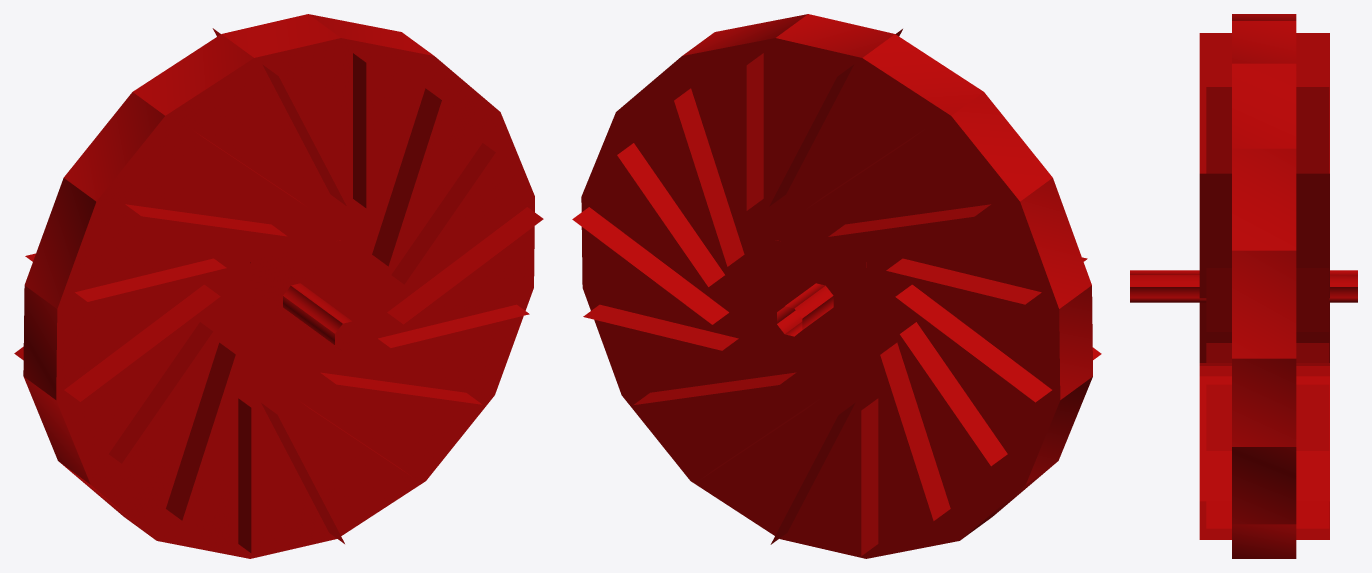
The model's file is wheel_small.glb.
The picture shows the model from 3 angles, left to right: view 1: azimuth 30°, elevation 25°; view 2: azimuth 150°, elevation 25°; view 3: azimuth 270°, elevation 25°; orthographic projection. The views are drawn at different scales.
Visible parts, largest first — view 1: MODEL_wheel_small; view 2: MODEL_wheel_small; view 3: MODEL_wheel_small.
Part boxes in pixels (left/top/right/bottom): MODEL_wheel_small: left=14, top=14, right=543, bottom=558; MODEL_wheel_small: left=572, top=14, right=1101, bottom=558; MODEL_wheel_small: left=1130, top=14, right=1357, bottom=558.
Bounding box in the file's own units: 2.4 × 2.4 × 1.01.
